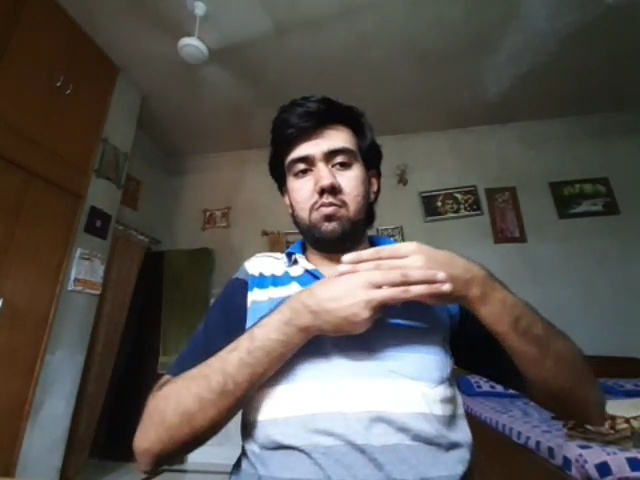Name: (311, 241, 474, 335)
